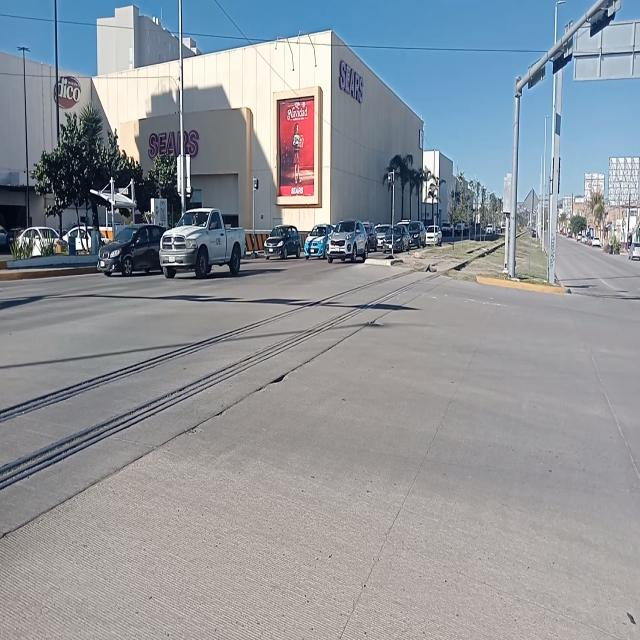Auto: (160, 210, 246, 280), (326, 218, 369, 264), (264, 223, 302, 263)
